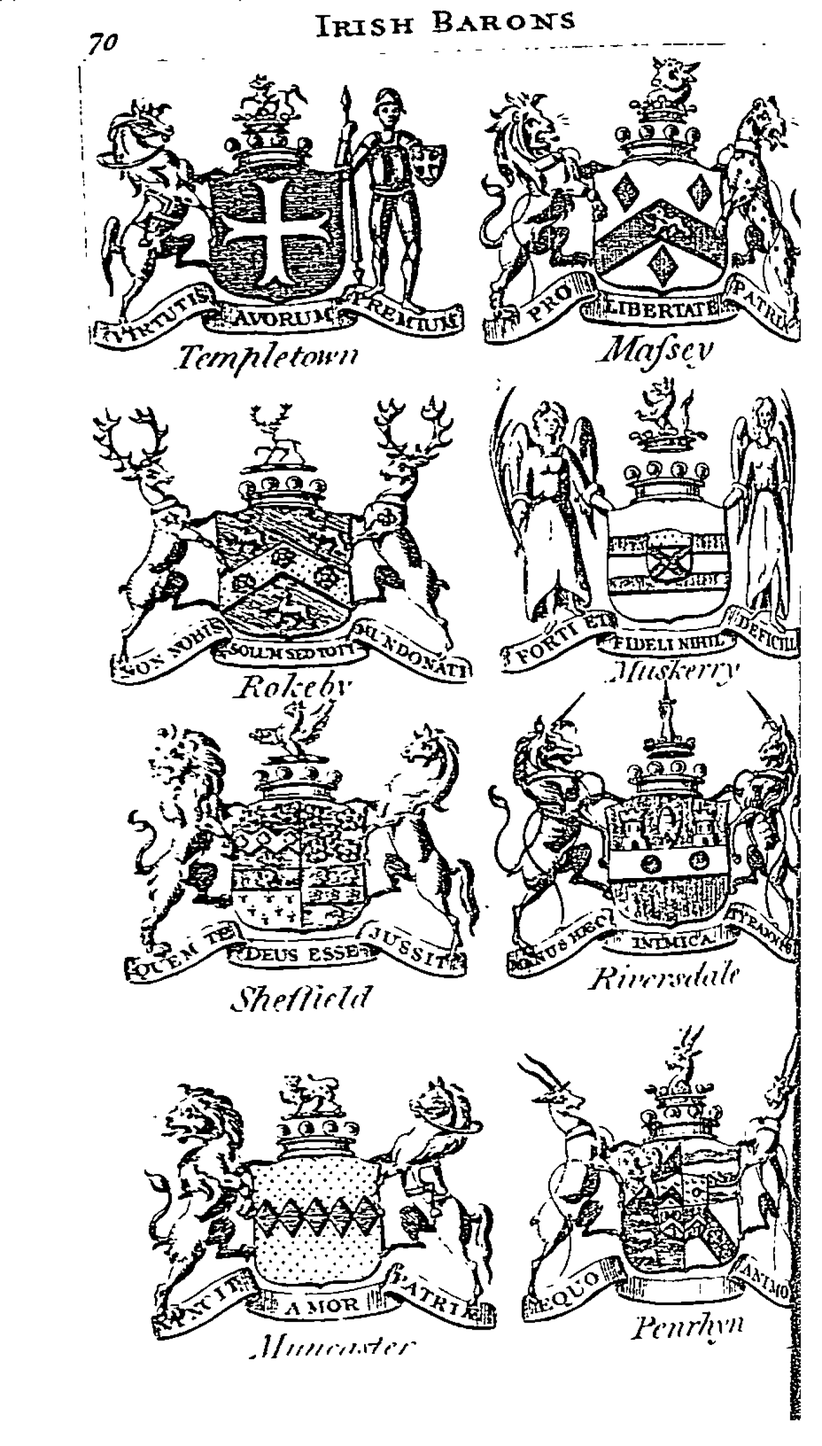coat_of_arms: (134, 1054, 518, 1362), (93, 394, 479, 700), (117, 712, 485, 1023), (90, 83, 470, 377), (478, 57, 802, 369), (493, 694, 822, 997), (489, 380, 803, 691), (514, 1026, 801, 1354)
